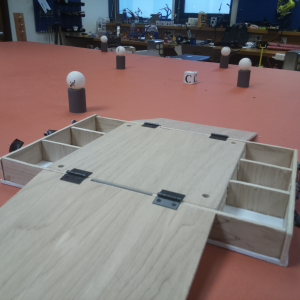blockC: (184, 71, 198, 85)
corner: (13, 11, 25, 41)
obstacle: (64, 69, 87, 111), (239, 59, 250, 88), (114, 46, 128, 66), (219, 45, 230, 69), (99, 37, 107, 52)
side: (1, 115, 120, 188), (233, 143, 300, 269)
slope: (1, 194, 218, 295)
